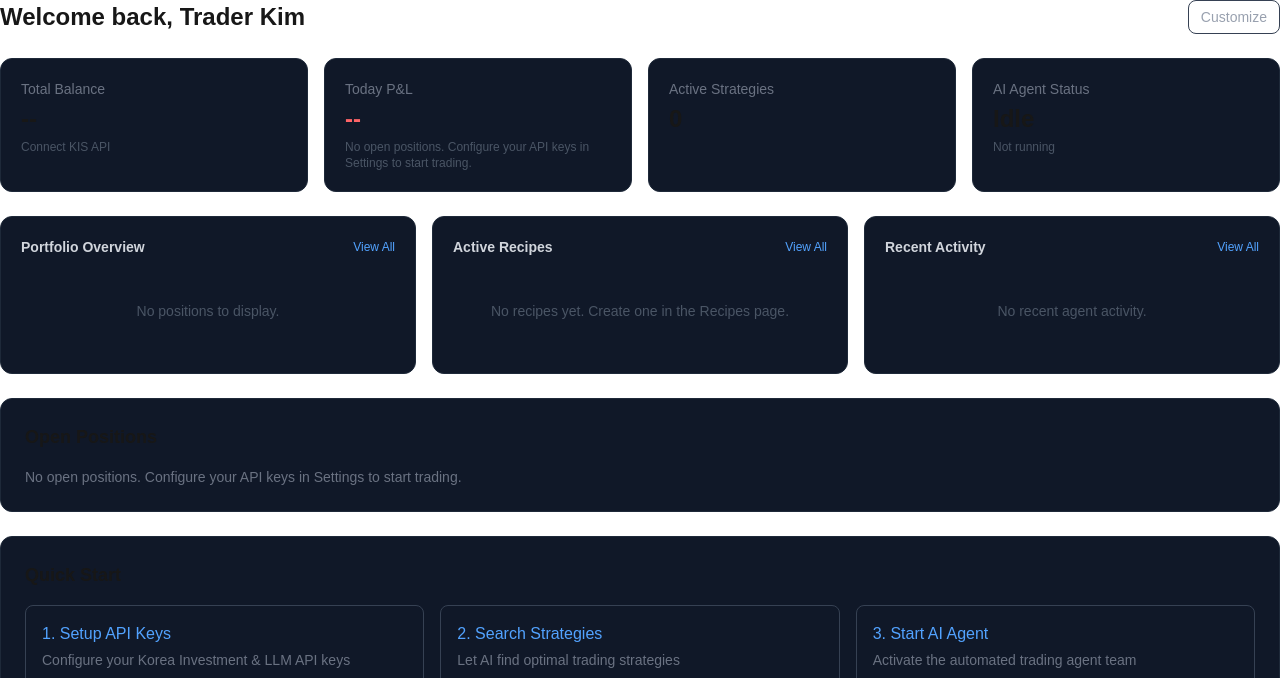
Test case: DashboardPage › closes customize panel when Done clicked
Click the button with test id "customize-btn" at (1234, 17), box [1188,0,1279,34]
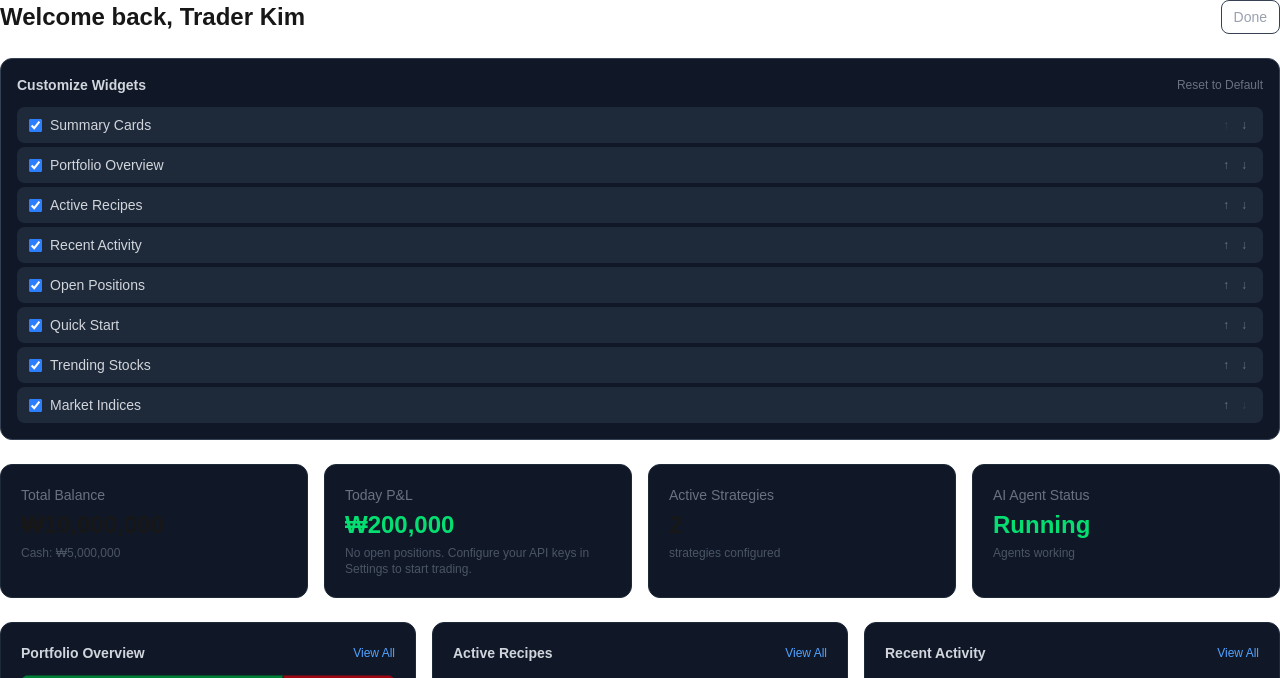
Now the element with test id "customize-panel" is shown, box [0,58,1279,440]
Click the button with test id "customize-btn" at (1250, 17), box [1220,0,1279,34]
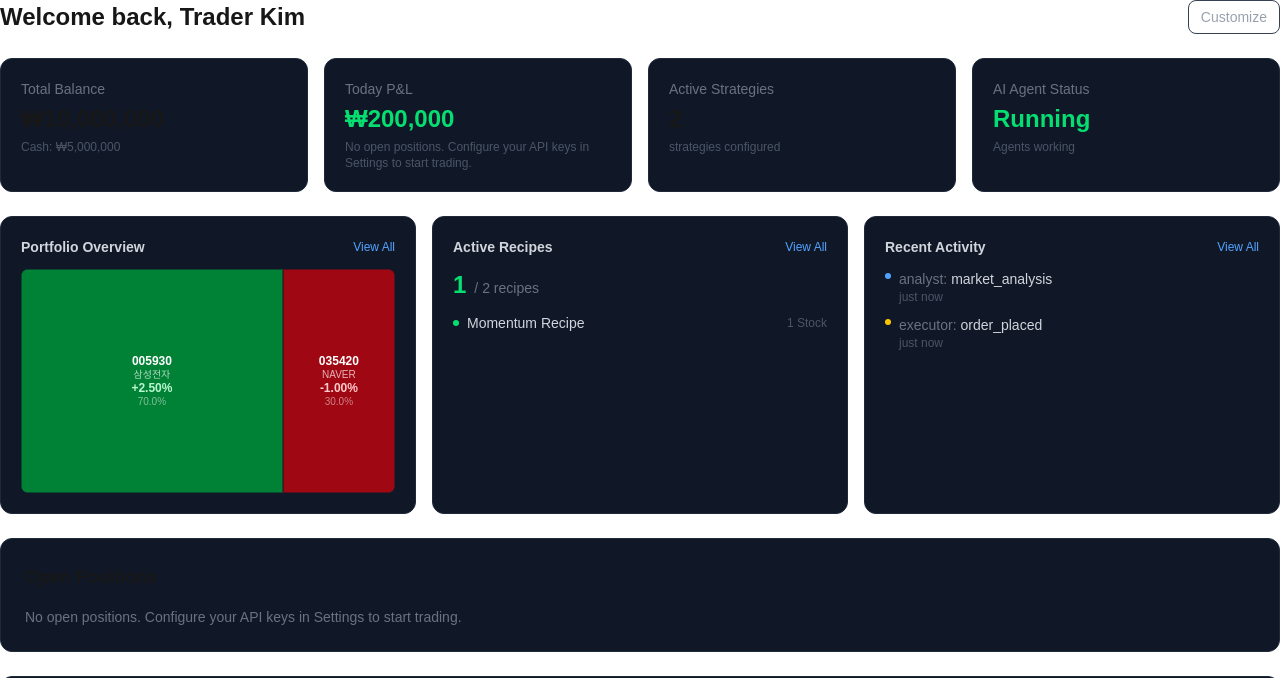
Now the element with test id "customize-panel" is gone
